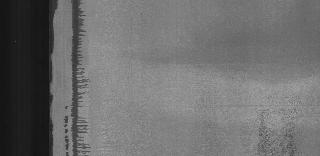oil spot: (62, 0, 101, 152)
